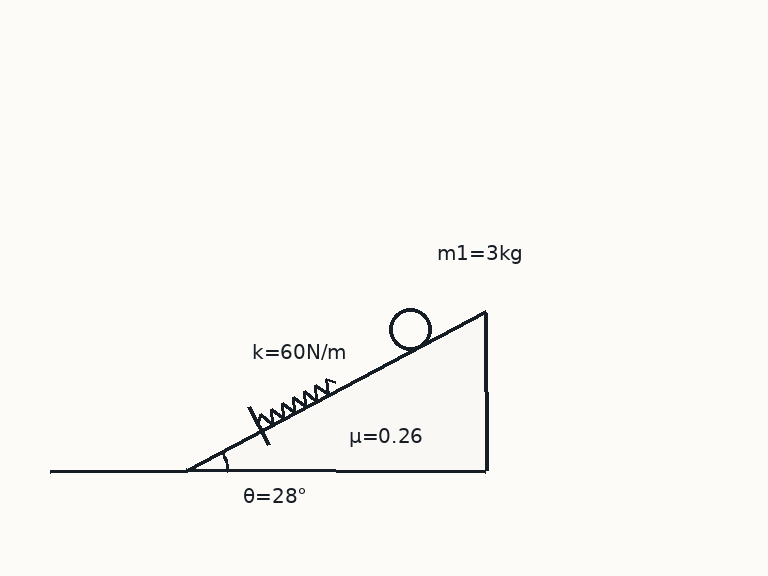ball: (387, 306, 433, 352)
ramp: (185, 310, 487, 473)
spring: (255, 377, 337, 426)
